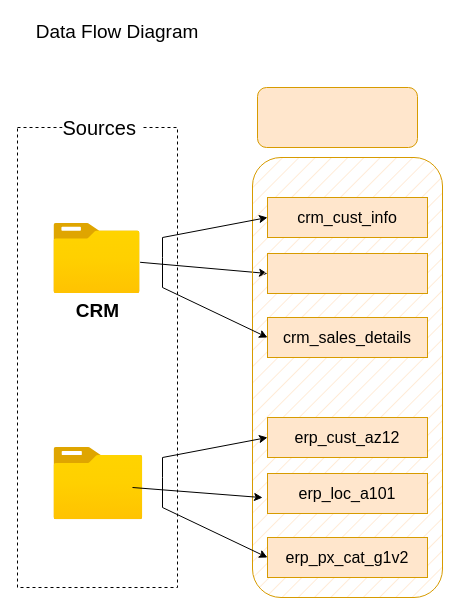
Image size: 460x615. Some labels were removed from this diagram. The shapes that lost their labels are listed below. From the top down, each one's centre as x and y in pixels, then its label:
At (x=337, y=117): "Bronze Layer".
At (x=347, y=273): "crm_prd_info".
At (x=97, y=483): "ERP".
